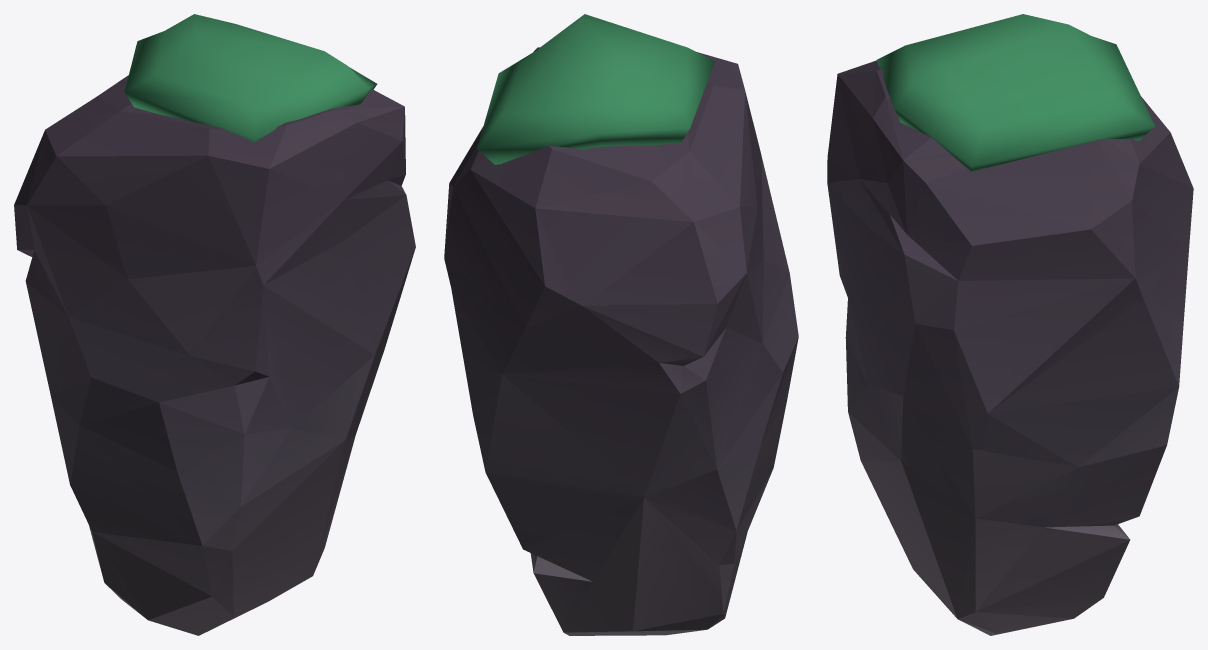
File: Rock_02.fbx
The picture shows the model from 3 angles, left to right: view 1: azimuth 30°, elevation 25°; view 2: azimuth 150°, elevation 25°; view 3: azimuth 270°, elevation 25°; orthographic projection. The views are drawn at different scales.
Parts seen in each view (by area): view 1: Floating_Rock_1_Big_0_1.016; view 2: Floating_Rock_1_Big_0_1.016; view 3: Floating_Rock_1_Big_0_1.016.
Part boxes in pixels (<box>): Floating_Rock_1_Big_0_1.016: <box>14,14,415,635</box>; Floating_Rock_1_Big_0_1.016: <box>444,14,798,635</box>; Floating_Rock_1_Big_0_1.016: <box>827,14,1193,635</box>.
Size of the model in its own units: 228 by 395 by 218.
